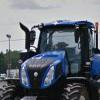Tractor: (11, 18, 100, 100)
